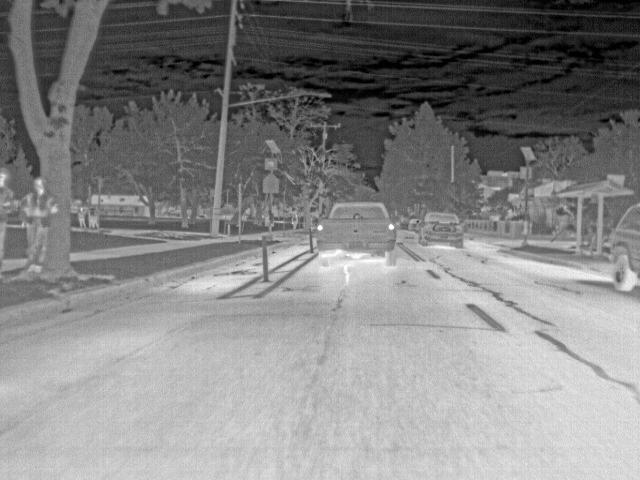car: (316, 201, 396, 266), (609, 199, 640, 292), (416, 211, 466, 248), (404, 218, 420, 230)
person: (17, 174, 53, 275), (1, 167, 14, 264), (75, 206, 87, 232), (87, 204, 99, 230), (289, 212, 301, 230)
